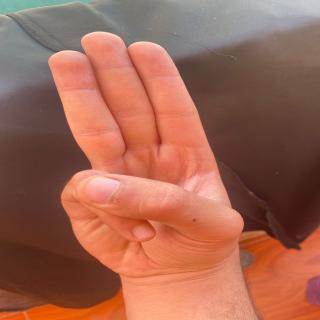THA: (36, 21, 300, 277)
